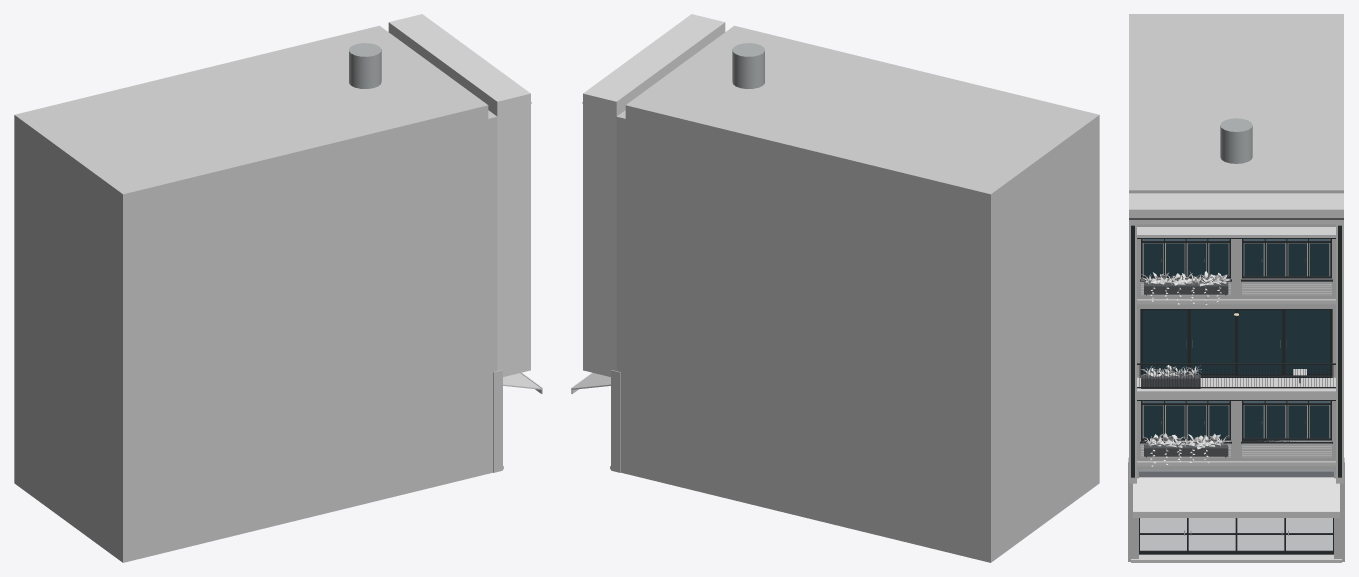
Rendered from OW_Mau_NhaPho_8_0_0.fbx.
The picture shows the model from 3 angles, left to right: view 1: azimuth 30°, elevation 25°; view 2: azimuth 150°, elevation 25°; view 3: azimuth 270°, elevation 25°; orthographic projection.
Visible parts, largest first — view 1: OW_NhaPho_9040; view 2: OW_NhaPho_9040; view 3: OW_NhaPho_9040, OW_MatTienKinh.
Part boxes in pixels (x1,y1,x2,y2): OW_NhaPho_9040: (14,14,542,562); OW_NhaPho_9040: (571,14,1099,562); OW_NhaPho_9040: (1128,14,1344,562); OW_MatTienKinh: (1139,469,1333,554).
Bounding box in the file's own units: 17.77 × 16.15 × 8.
